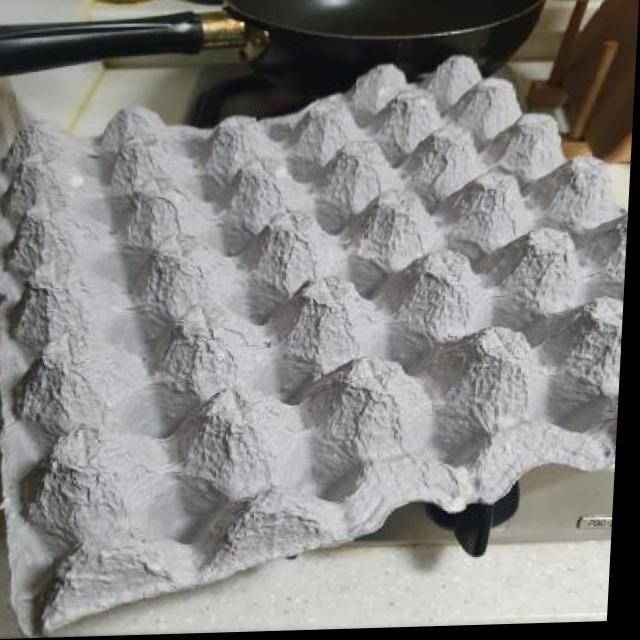box: (0, 40, 636, 640)
